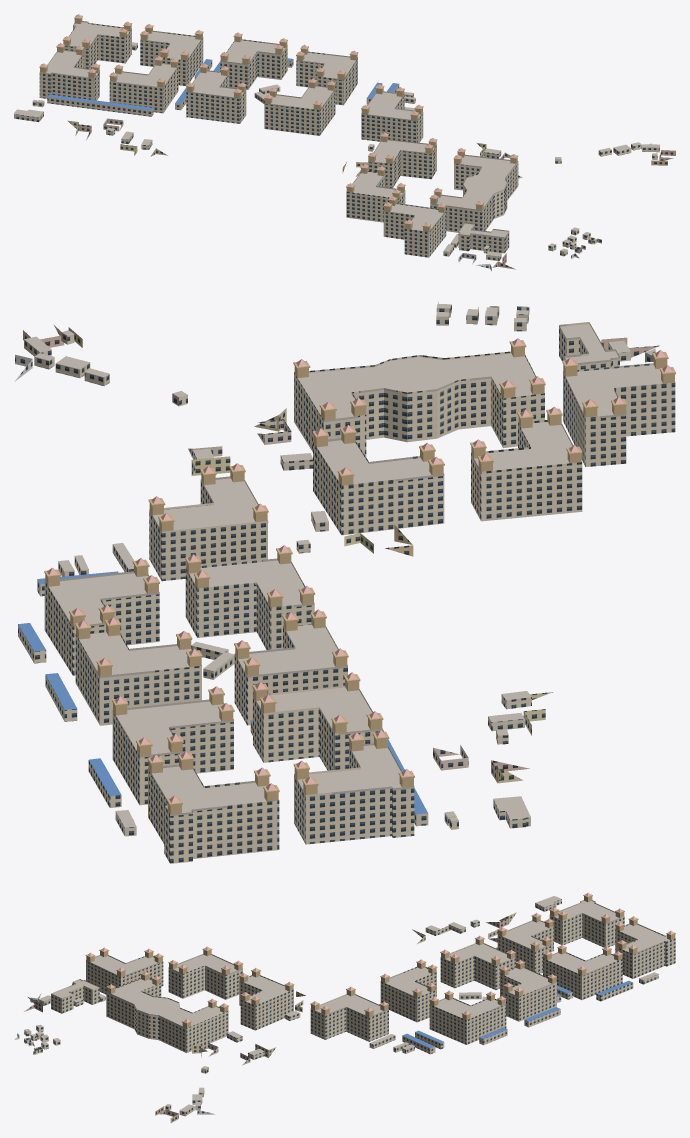
File: cite_administrative.glb
3 renders of one model, top to bottom at view 1: azimuth 30°, elevation 25°; view 2: azimuth 150°, elevation 25°; view 3: azimuth 270°, elevation 25°, orthographic. The views are drawn at different scales.
Visible parts, largest first — view 1: Cite_Administrative; view 2: Cite_Administrative; view 3: Cite_Administrative.
Boxes of the visible parts, x1,y1,x2,y2 form: Cite_Administrative: (14, 14, 675, 271); Cite_Administrative: (14, 302, 675, 863); Cite_Administrative: (14, 892, 675, 1122).
Bounding box in the file's own units: 0.2731 × 0.0214 × 0.35.
2 materials, 2 textured.
